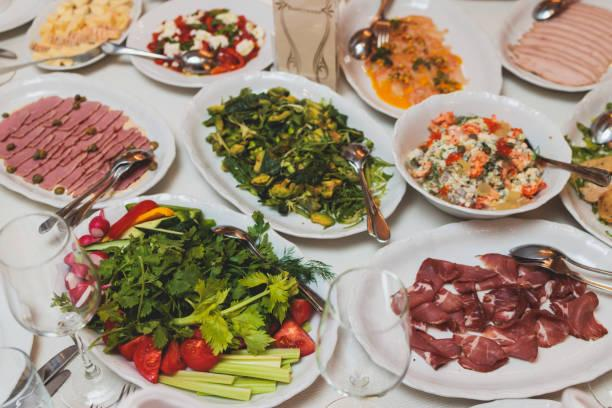Braised Crucian Carp: (67, 192, 331, 406), (339, 217, 611, 399), (183, 69, 402, 238), (1, 73, 177, 208), (392, 90, 569, 218), (124, 0, 274, 89)
